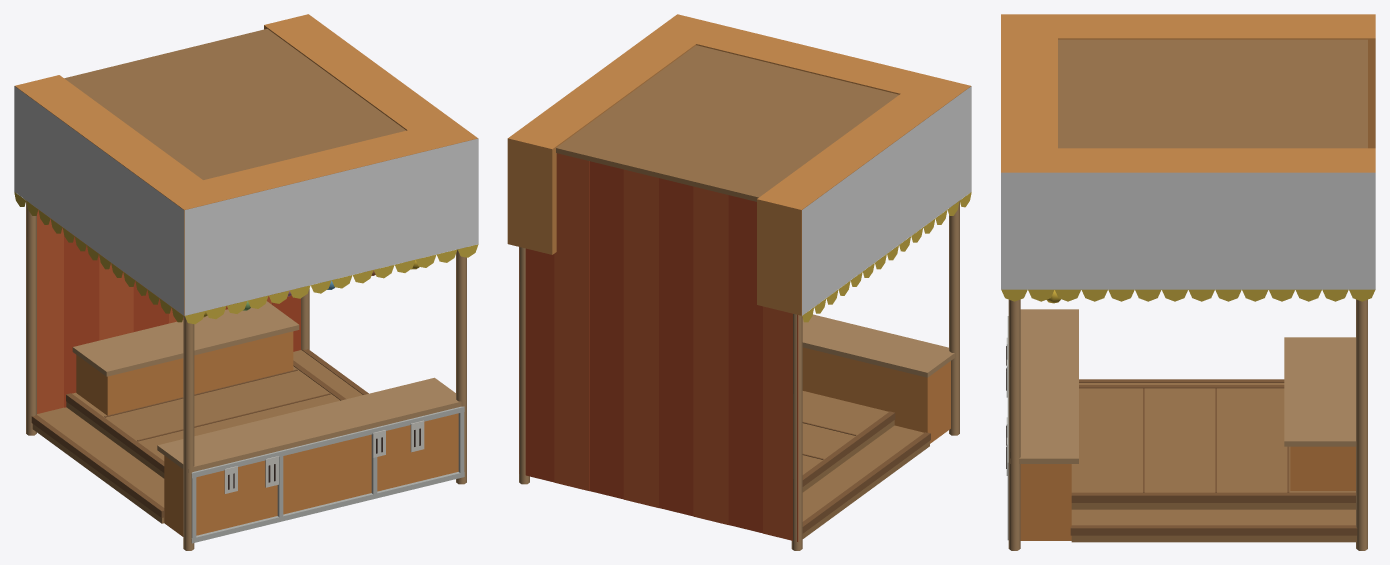
The model's file is stall_orange.glb.
3 renders of one model, left to right at view 1: azimuth 30°, elevation 25°; view 2: azimuth 150°, elevation 25°; view 3: azimuth 270°, elevation 25°, orthographic. The views are drawn at different scales.
Parts seen in each view (by area): view 1: stall_orange, stall_orange_label, stall_orange_board, stall_orange_label2; view 2: stall_orange, stall_orange_board, stall_orange_label2; view 3: stall_orange, stall_orange_label1, stall_orange_board.
Part boxes in pixels (x1=…): stall_orange: x1=14, y1=29, x2=478, y2=550; stall_orange_label: x1=184, y1=138, x2=478, y2=315; stall_orange_board: x1=15, y1=14, x2=477, y2=315; stall_orange_label2: x1=14, y1=86, x2=183, y2=315; stall_orange: x1=519, y1=45, x2=971, y2=550; stall_orange_board: x1=507, y1=14, x2=970, y2=315; stall_orange_label2: x1=802, y1=86, x2=971, y2=315; stall_orange: x1=1001, y1=39, x2=1375, y2=550; stall_orange_label1: x1=1001, y1=172, x2=1375, y2=289; stall_orange_board: x1=1001, y1=14, x2=1375, y2=172.
Size of the model in its own units: 2.51 by 2.81 by 2.51.
